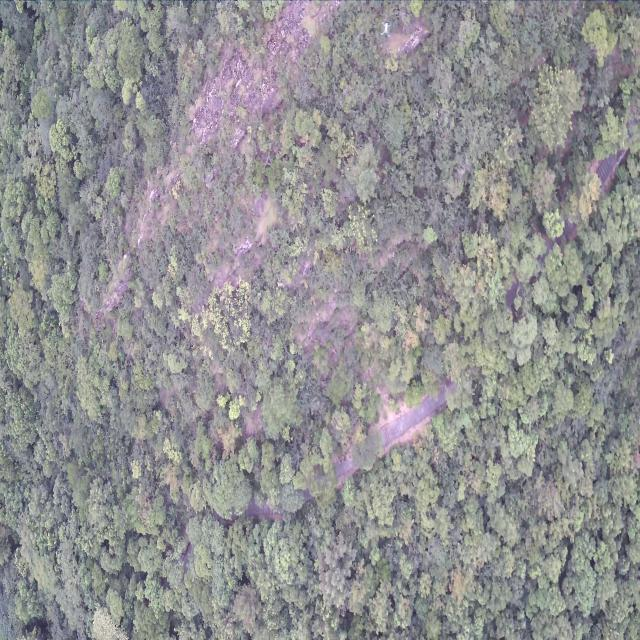UAV: (381, 20, 391, 38)
